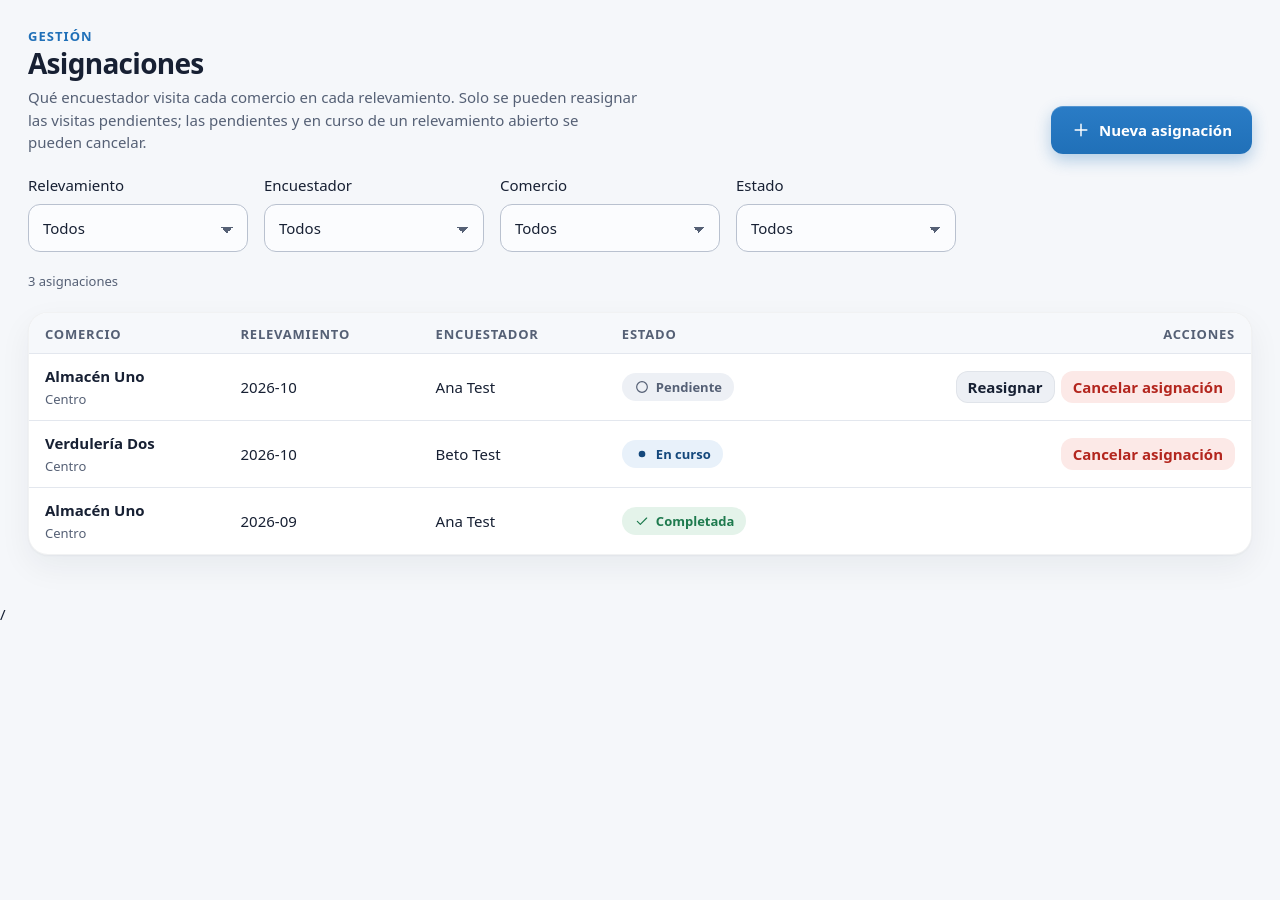
Scenario: create asignacion › shows a server 409 duplicate on the comercio field
Click the button "Nueva asignación" at (1152, 130), box [1051,106,1252,154]
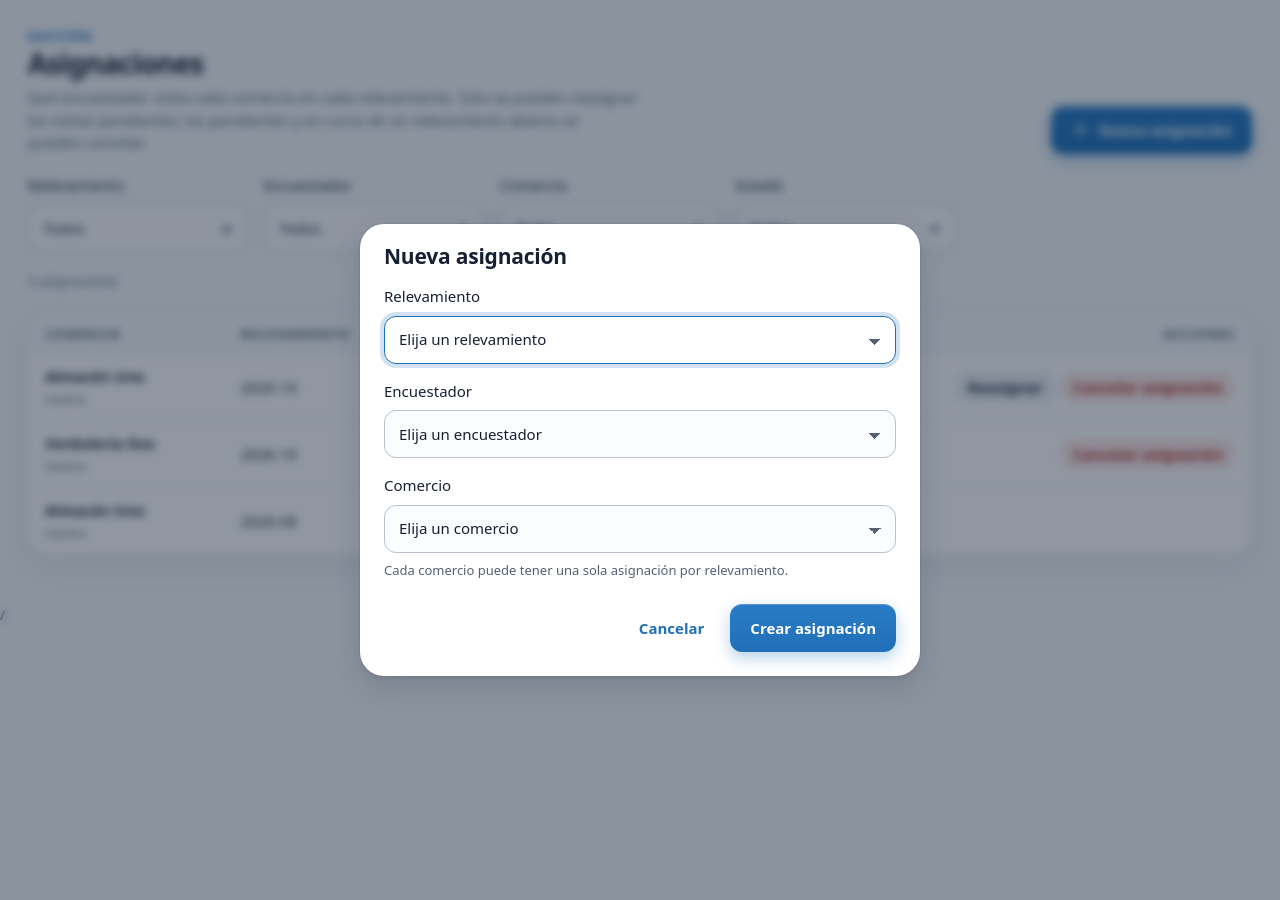
Select "2026-10" in the dropdown labelled "Relevamiento" at (640, 340), box [384,316,896,364]
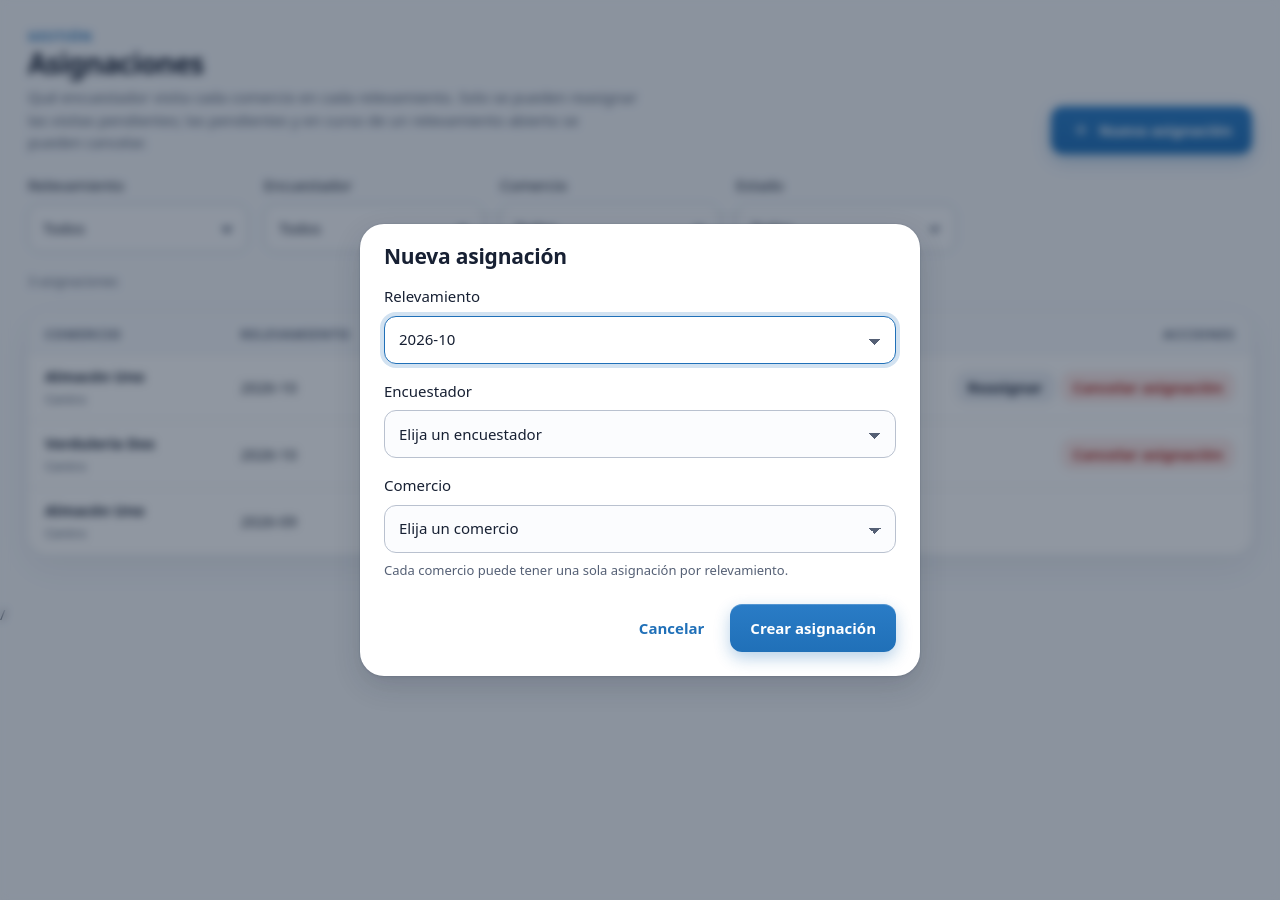
Select "Beto Test" in the dropdown labelled "Encuestador" at (640, 434), box [384,410,896,458]
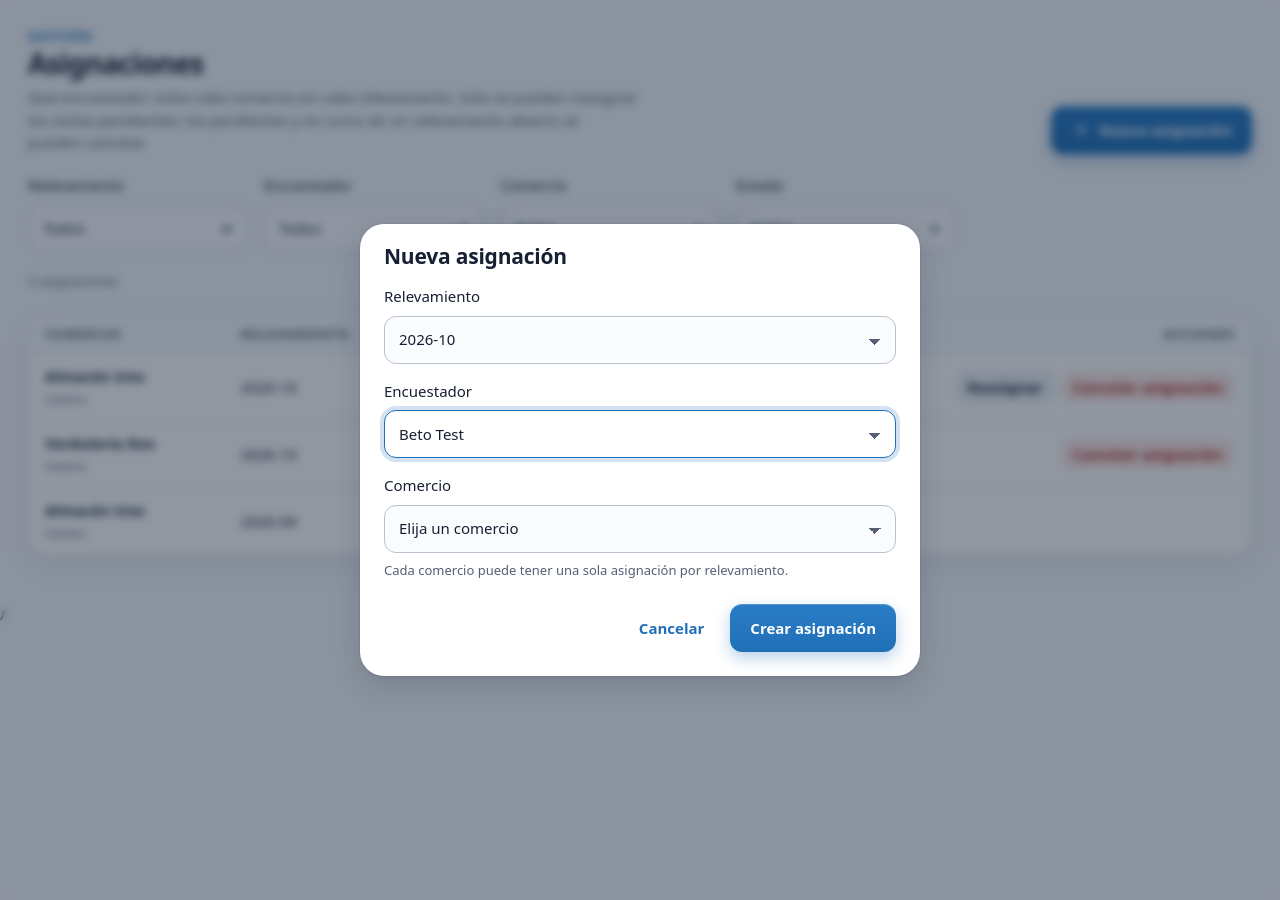
Select "Kiosco Tres (Centro)" in the dropdown labelled "Comercio" at (640, 529), box [384,505,896,553]
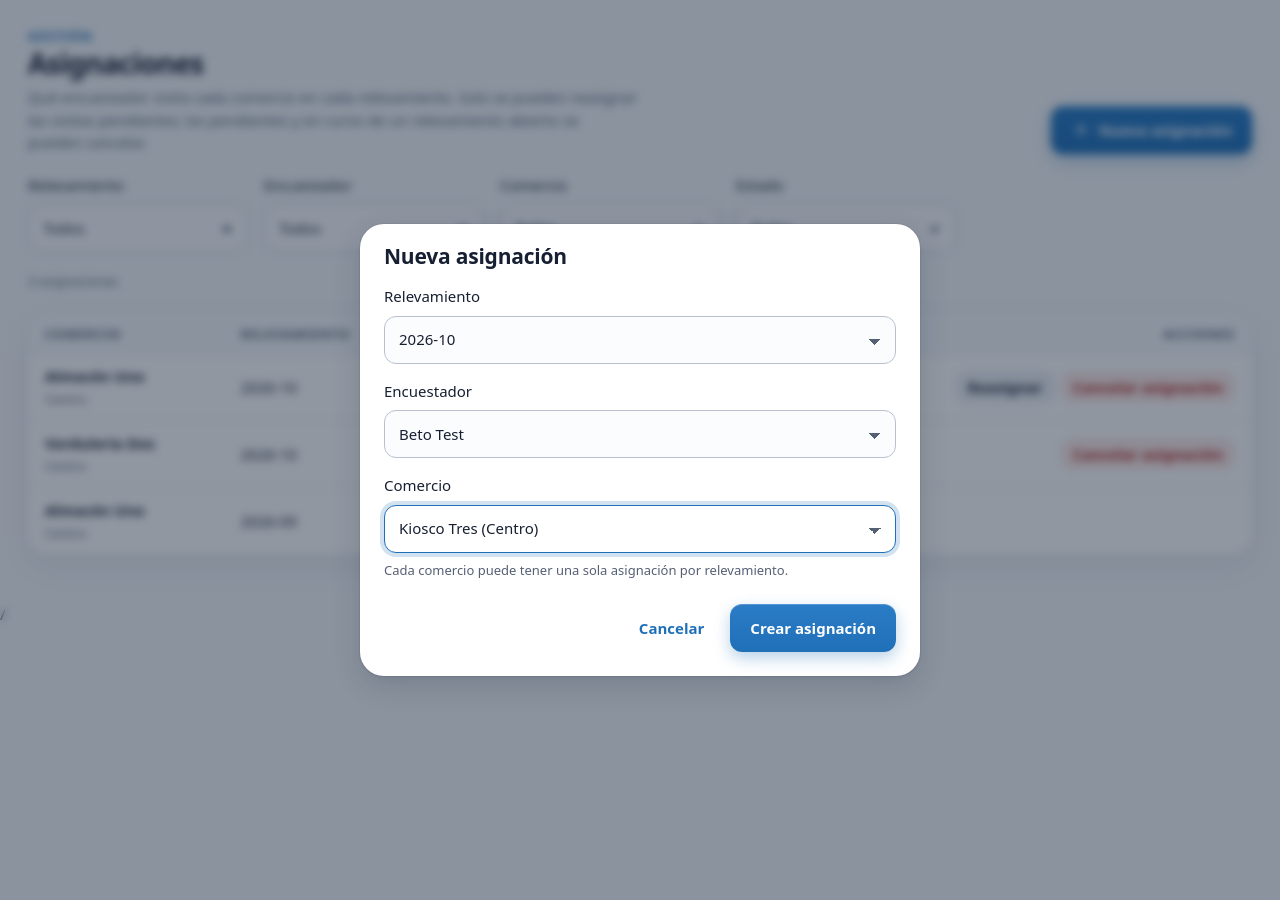
Click the button "Crear asignación" at (813, 628), box [730,604,896,652]
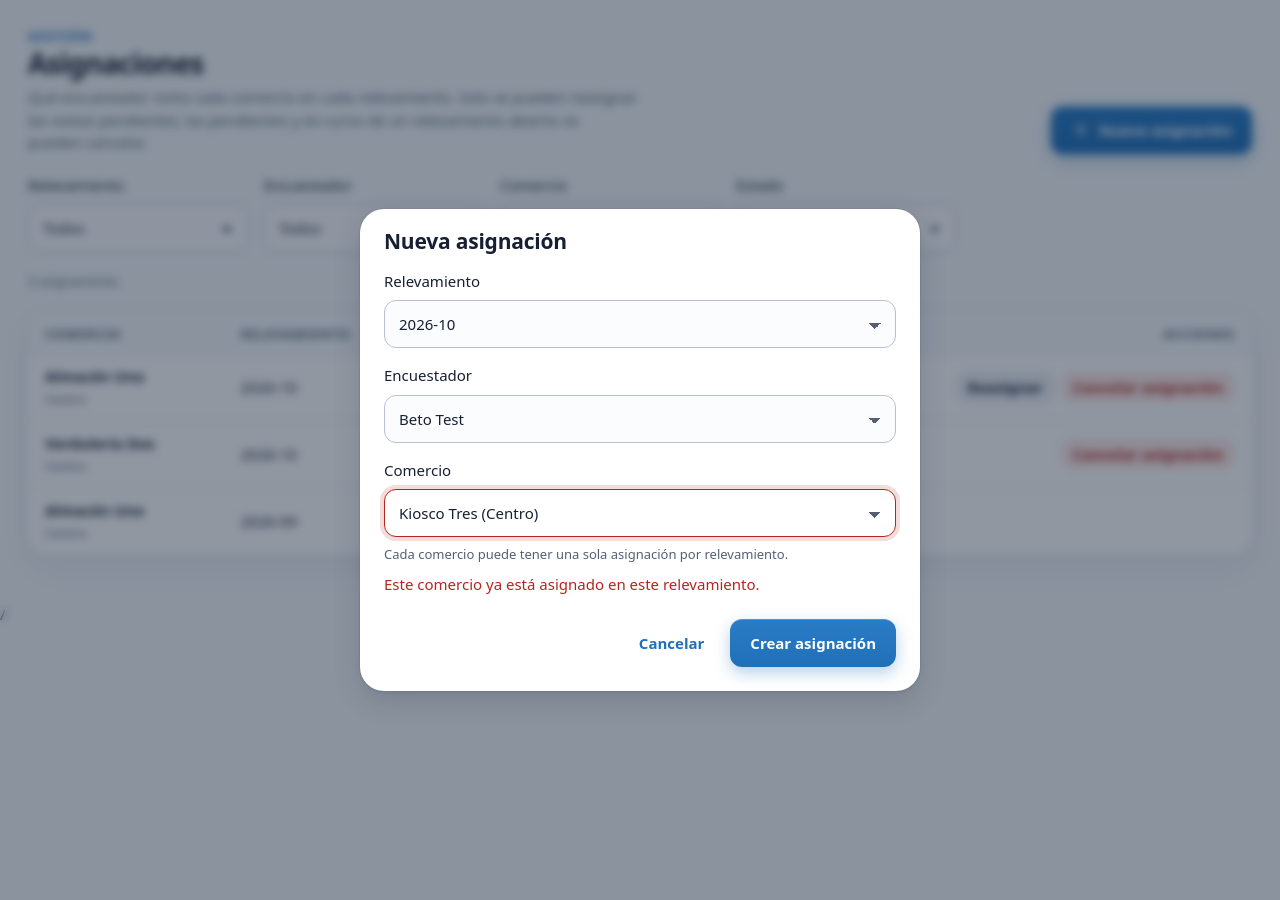
Now the text "Este comercio ya está asignado en este relevamiento." is shown, box [384,574,760,594]
